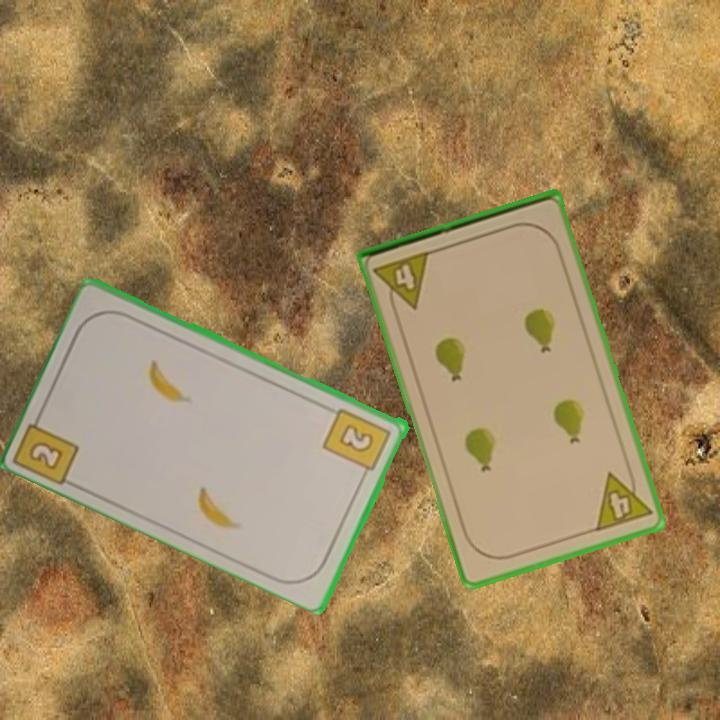2b: (13, 405, 83, 487), (320, 404, 394, 481)
4p: (591, 463, 655, 535), (370, 247, 434, 317)
